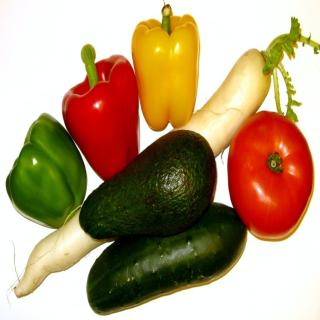tomato: (224, 107, 314, 240)
